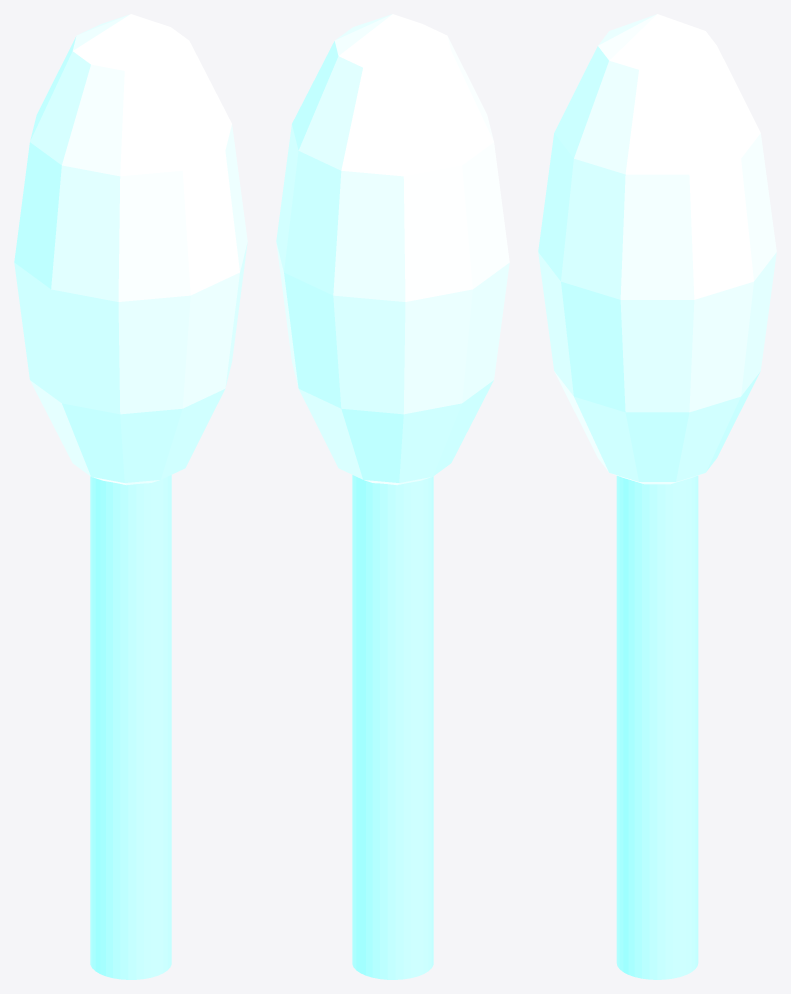
File: balachica_mesh.glb
3 renders of one model, left to right at view 1: azimuth 30°, elevation 25°; view 2: azimuth 150°, elevation 25°; view 3: azimuth 270°, elevation 25°, orthographic.
Visible parts, largest first — view 1: BalaChica; view 2: BalaChica; view 3: BalaChica.
Boxes of the visible parts, bbox=[...] form: BalaChica: bbox=[14, 14, 247, 979]; BalaChica: bbox=[276, 14, 509, 979]; BalaChica: bbox=[538, 14, 776, 979].
Bounding box in the file's own units: 0.0666 × 0.307 × 0.07.
